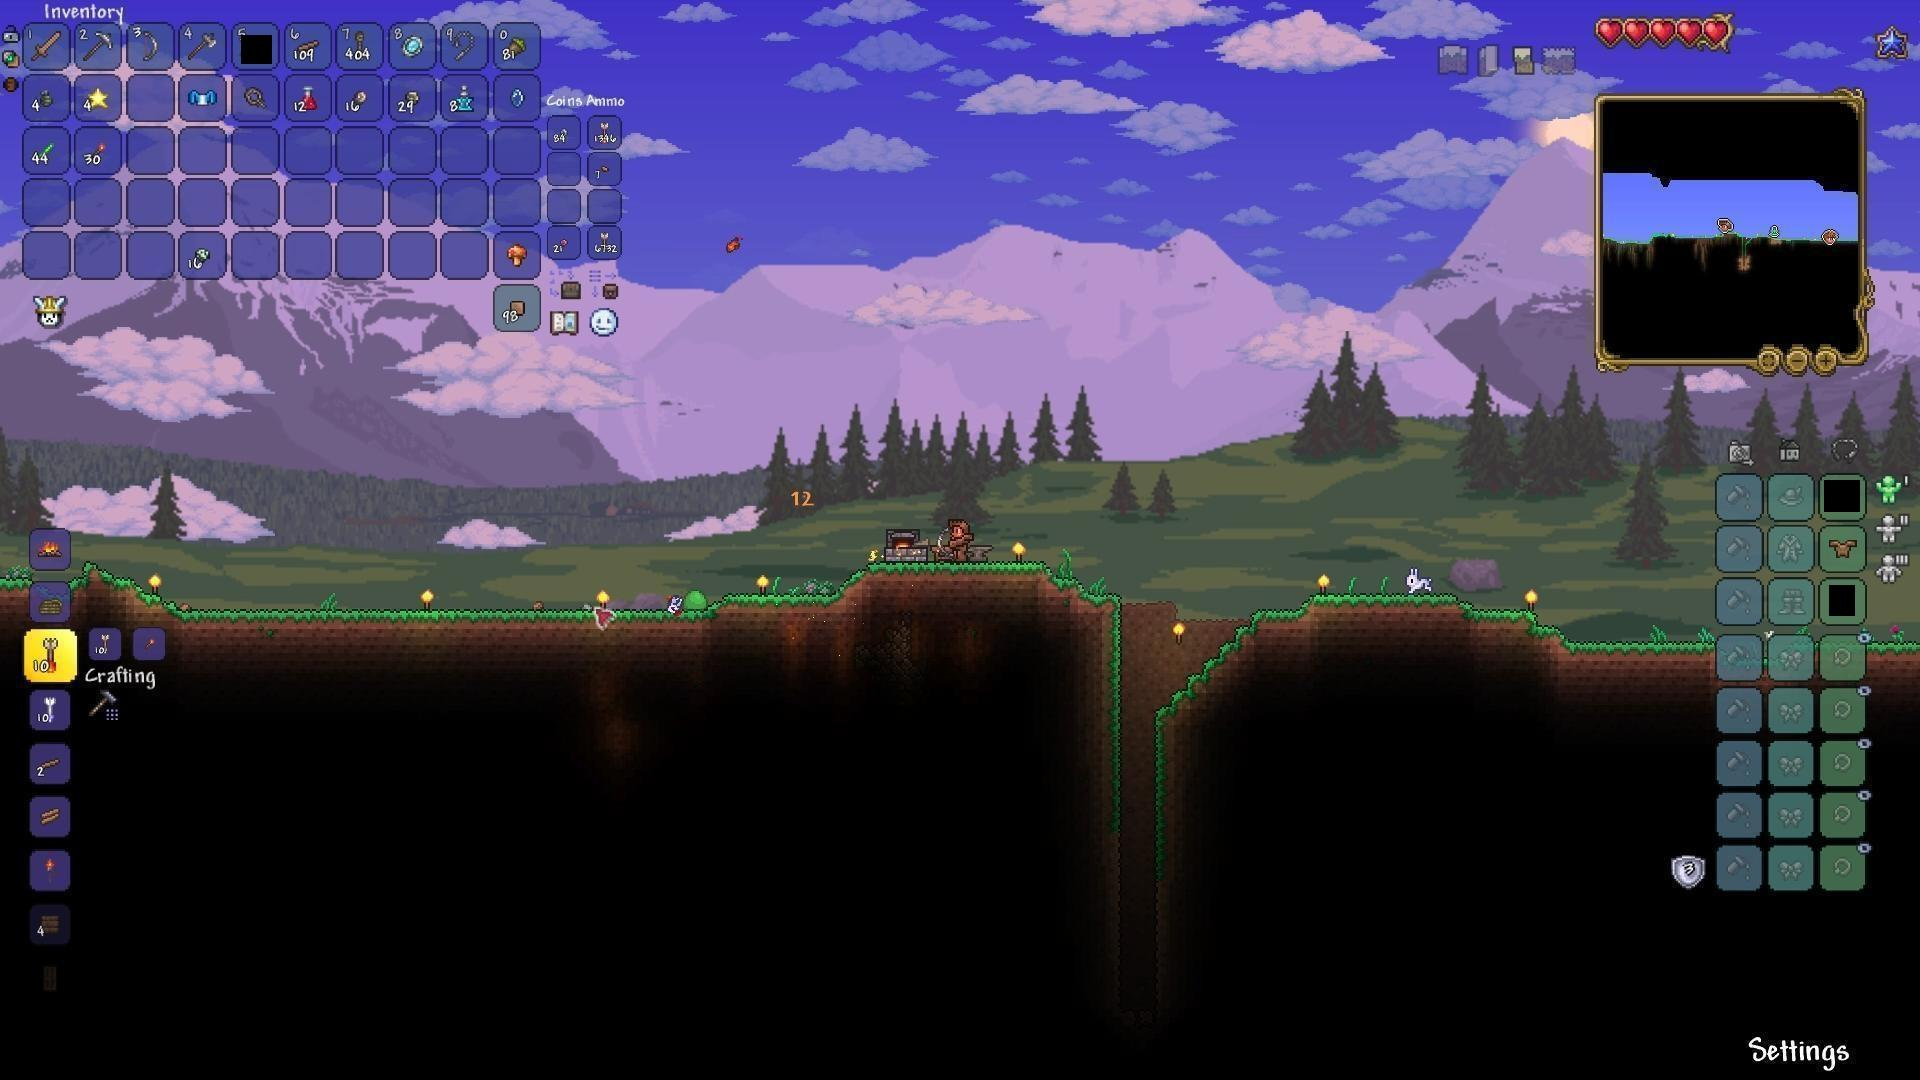breastplate: (1829, 535, 1859, 558)
slime: (682, 584, 717, 609)
wood: (36, 803, 66, 832)
